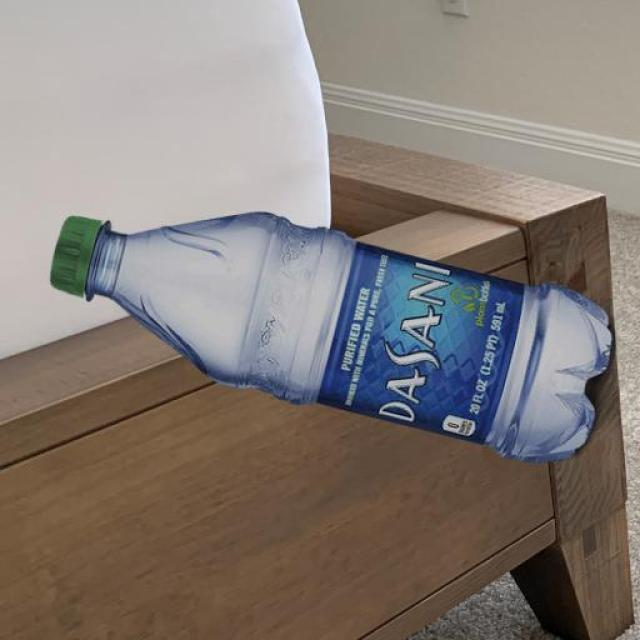bottle: (49, 207, 614, 463)
